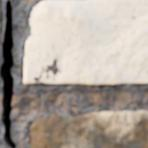brick: (24, 0, 147, 83), (30, 110, 147, 147), (0, 0, 1, 34)
crack: (0, 0, 15, 147)
